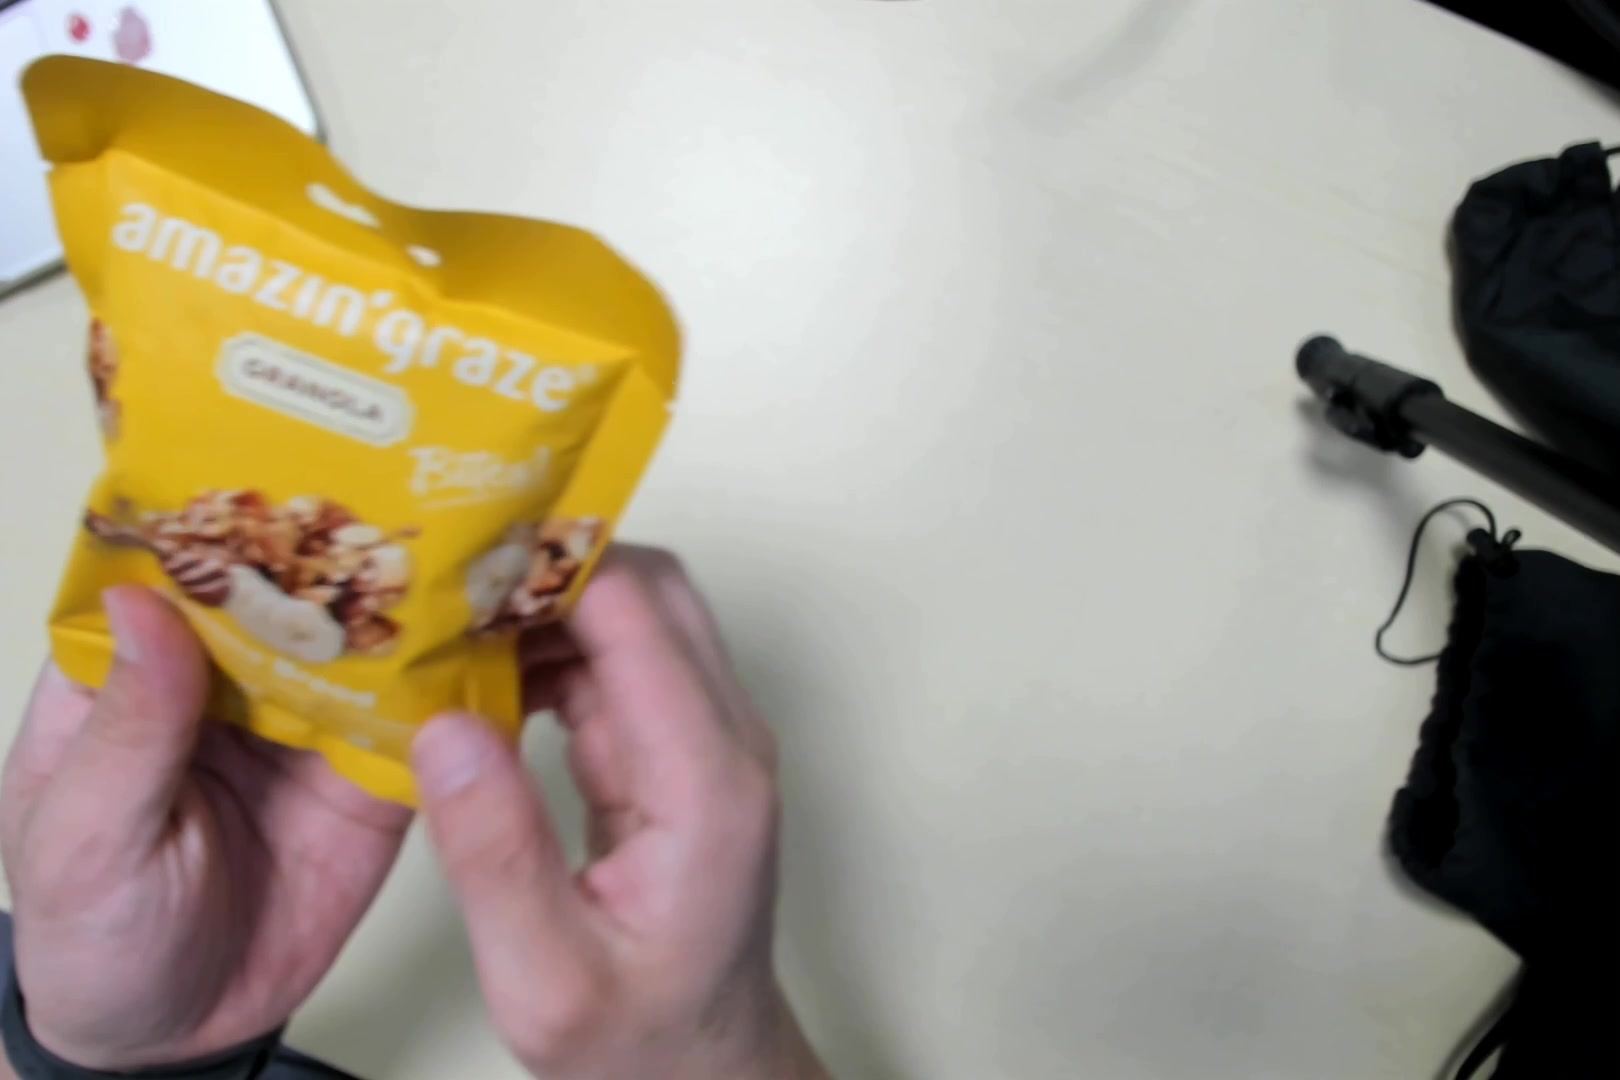BreakfastCereals_0-99g_NonHalal_NonHealthy: (35, 80, 640, 792)
